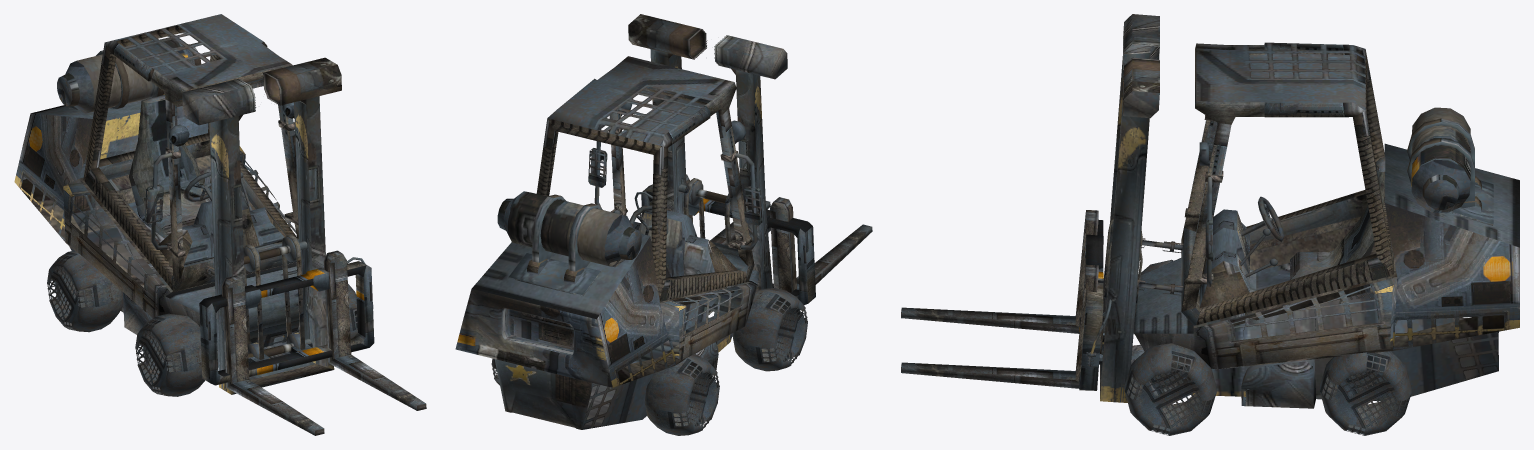
File: Forklift1.fbx
The picture shows the model from 3 angles, left to right: view 1: azimuth 30°, elevation 25°; view 2: azimuth 150°, elevation 25°; view 3: azimuth 270°, elevation 25°; orthographic projection. The views are drawn at different scales.
Parts seen in each view (by area): view 1: Forklift:Mesh; view 2: Forklift:Mesh; view 3: Forklift:Mesh.
Part boxes in pixels (x1,y1,x2,y2): Forklift:Mesh: (14,14,426,435); Forklift:Mesh: (455,14,872,435); Forklift:Mesh: (901,14,1519,435).
Bounding box in the file's own units: 3.81 × 5.72 × 9.53.
